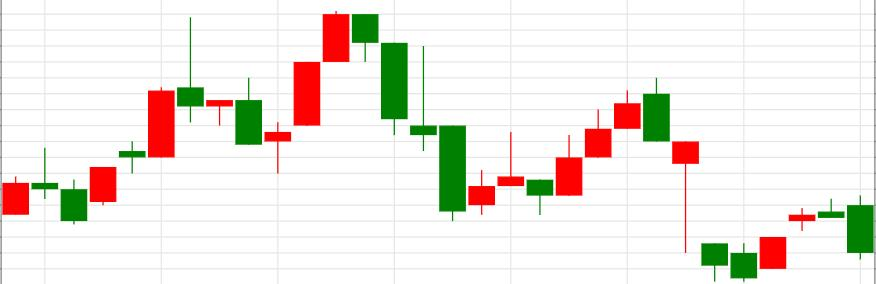bearish_engulfing_fall: (526, 77, 671, 215)
